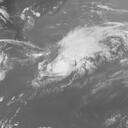cyclone: (35, 45, 81, 81)
